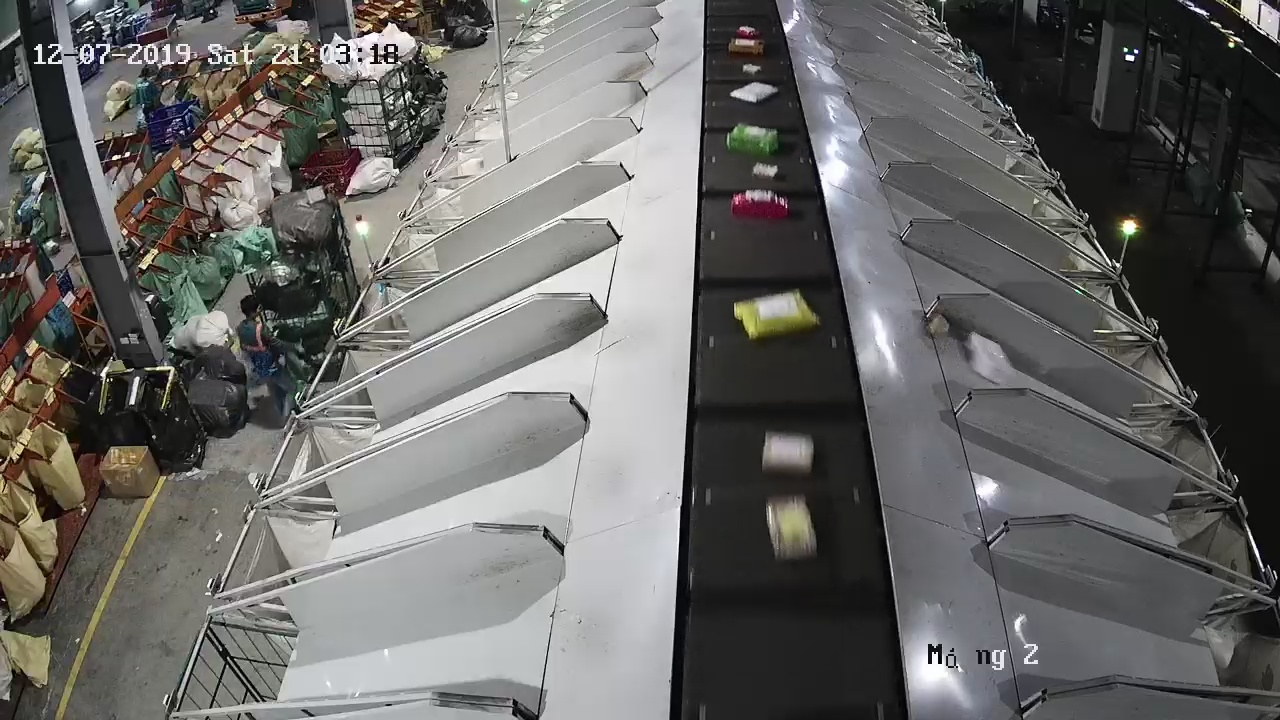parcel: (963, 332, 1012, 385)
